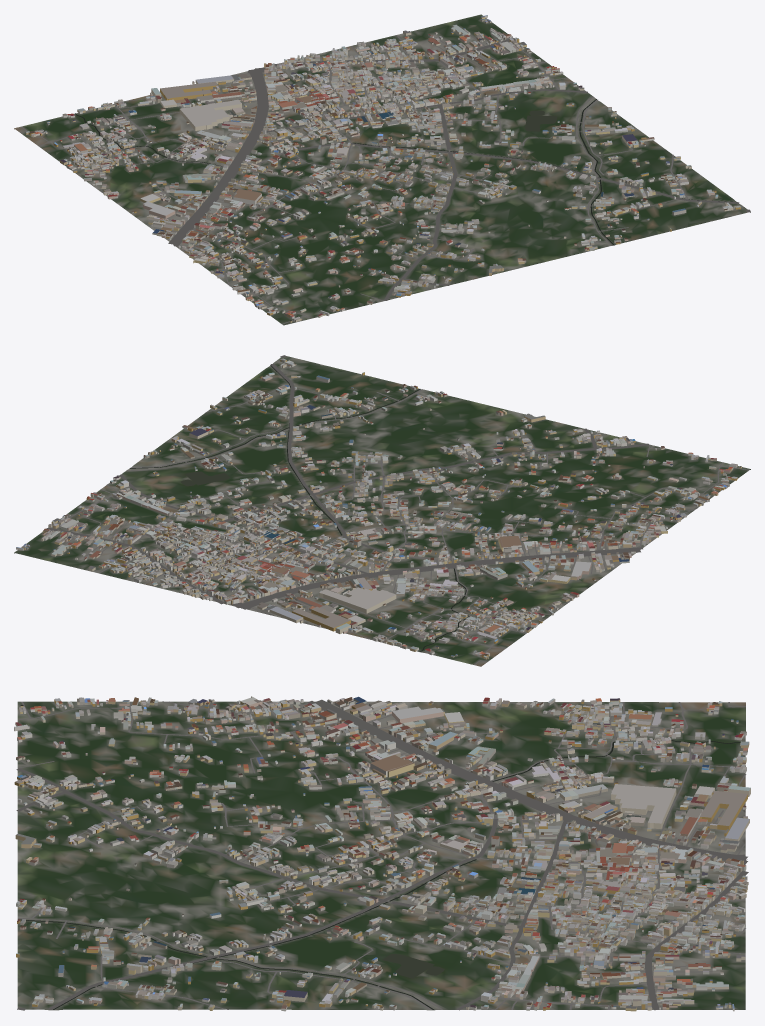
3 views of the same model, one above another, from view 1: azimuth 30°, elevation 25°; view 2: azimuth 150°, elevation 25°; view 3: azimuth 270°, elevation 25° (orthographic). The views are drawn at different scales.
Visible parts, largest first — view 1: ground, buildings, roads, water; view 2: ground, buildings, roads, water; view 3: ground, buildings, roads, water.
Part boxes in pixels (x1,y1,x2,y2): ground: (14,14,750,325); buildings: (25,15,740,322); roads: (20,35,750,324); water: (75,99,737,245); ground: (14,356,750,666); buildings: (16,358,741,659); roads: (47,355,749,664); water: (129,365,469,651); ground: (17,701,745,1010); buildings: (14,696,750,1011); roads: (16,699,748,1010); water: (20,739,740,1009).
Bounding box in the file's own units: 1422 × 19.66 × 1418.
